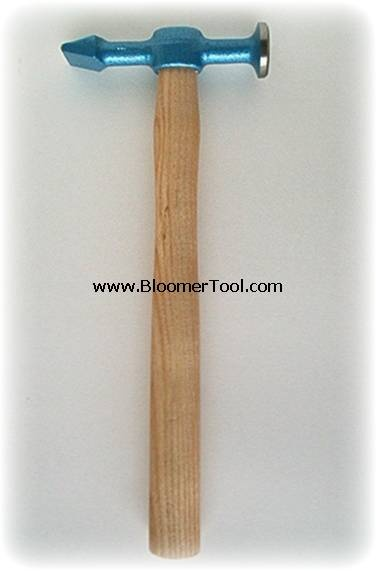hammer: (59, 20, 300, 274)
